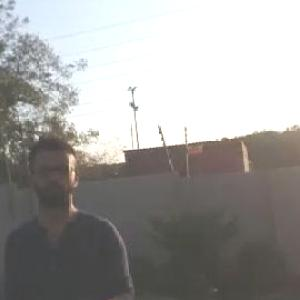follow: (1, 132, 142, 299)
